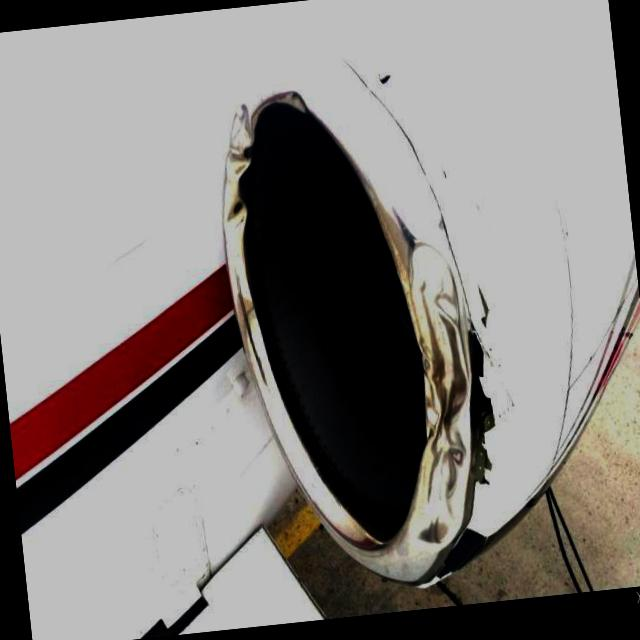dent: (384, 238, 484, 548), (213, 102, 265, 231)
